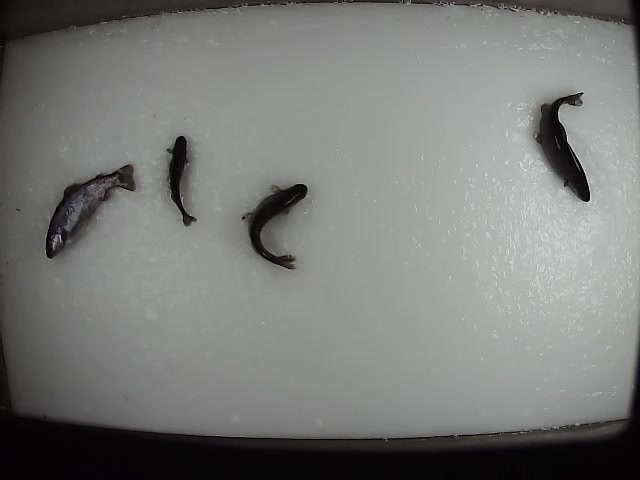fish: (41, 160, 140, 262), (532, 88, 595, 203), (239, 180, 309, 271), (164, 132, 199, 230)
